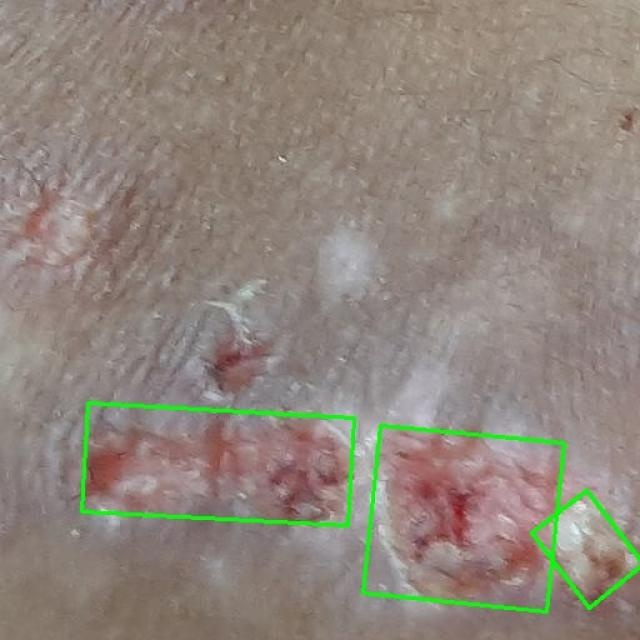Eczema: (364, 425, 564, 612), (82, 403, 354, 526), (532, 491, 640, 608)
